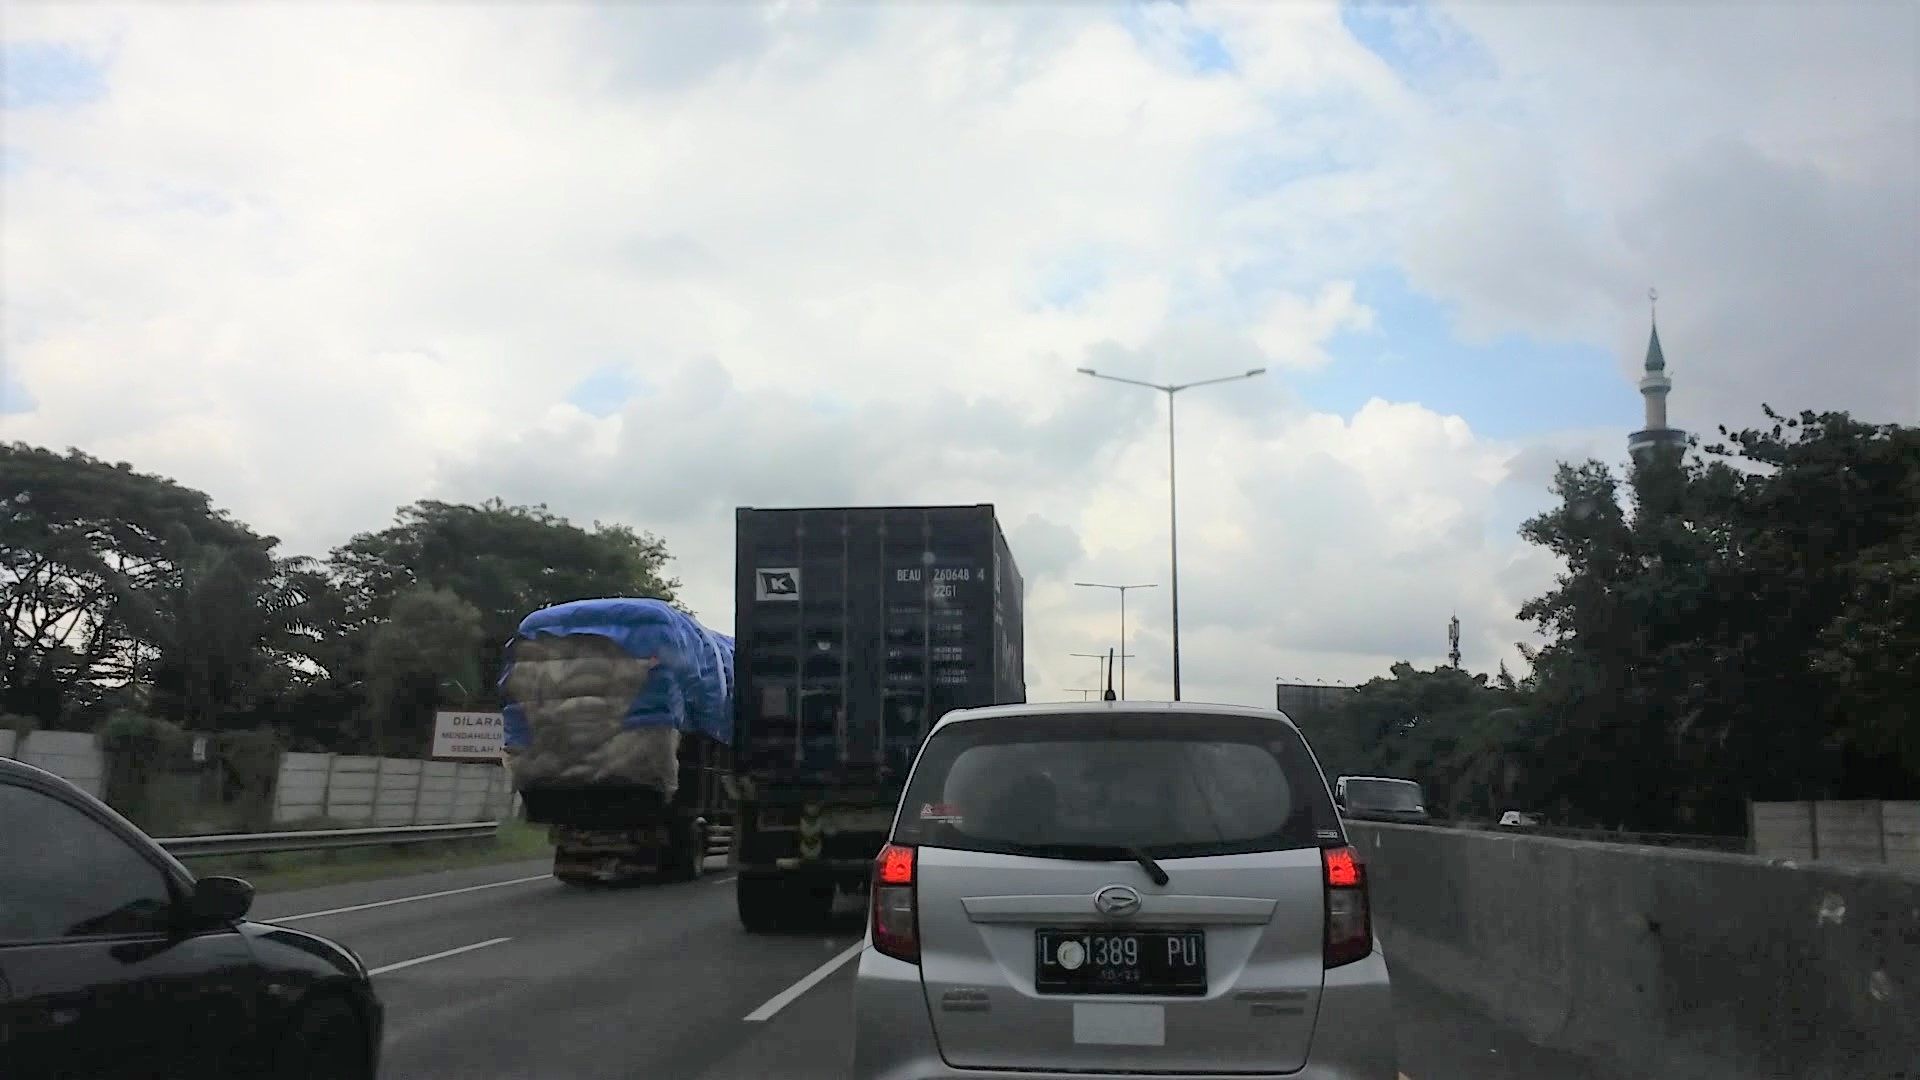plate_positive: (1034, 928, 1208, 996)
